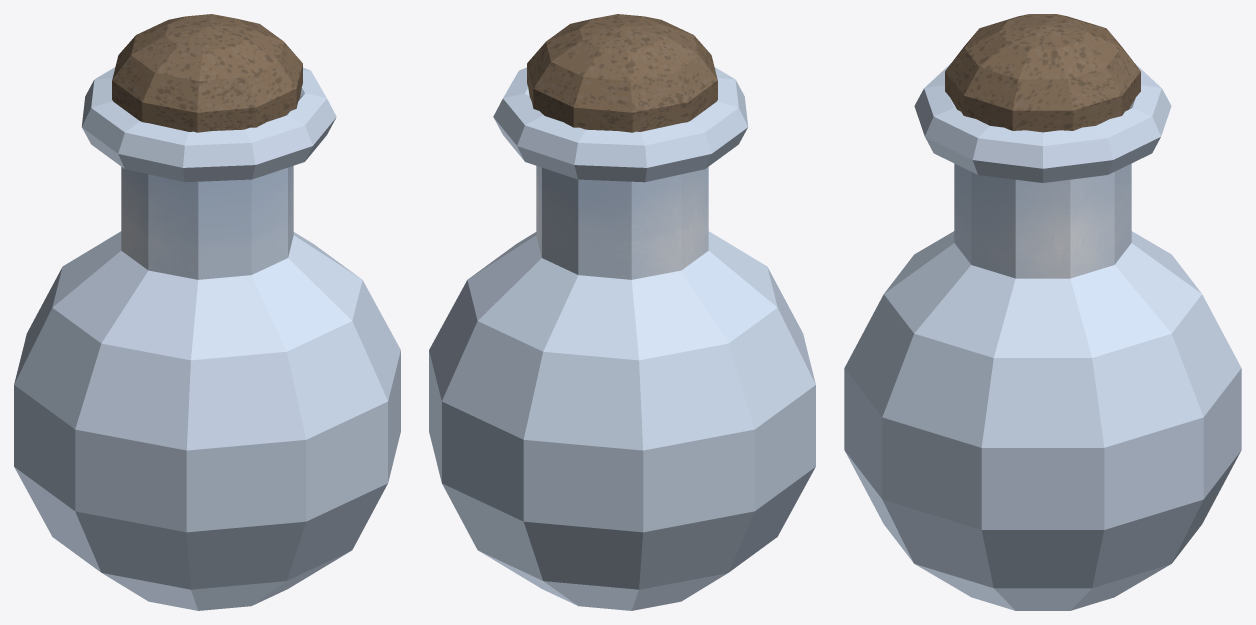
File: Potion Bottle.glb
The picture shows the model from 3 angles, left to right: view 1: azimuth 30°, elevation 25°; view 2: azimuth 150°, elevation 25°; view 3: azimuth 270°, elevation 25°; orthographic projection.
Visible parts, largest first — view 1: Sphere, Sphere.001, Cylinder, Torus; view 2: Sphere, Sphere.001, Cylinder, Torus; view 3: Sphere, Sphere.001, Cylinder, Torus.
Part boxes in pixels (x1=…): Sphere: x1=14, y1=231, x2=400, y2=610; Sphere.001: x1=112, y1=14, x2=302, y2=132; Cylinder: x1=121, y1=166, x2=293, y2=279; Torus: x1=81, y1=67, x2=336, y2=182; Sphere: x1=429, y1=231, x2=815, y2=610; Sphere.001: x1=527, y1=14, x2=717, y2=132; Cylinder: x1=536, y1=166, x2=708, y2=279; Torus: x1=493, y1=67, x2=748, y2=182; Sphere: x1=844, y1=231, x2=1241, y2=610; Sphere.001: x1=945, y1=14, x2=1140, y2=132; Cylinder: x1=954, y1=163, x2=1131, y2=278; Torus: x1=914, y1=63, x2=1171, y2=182.
Size of the model in its own units: 1.85 by 3.08 by 1.95.
Materials: 4 (4 with a texture image).
